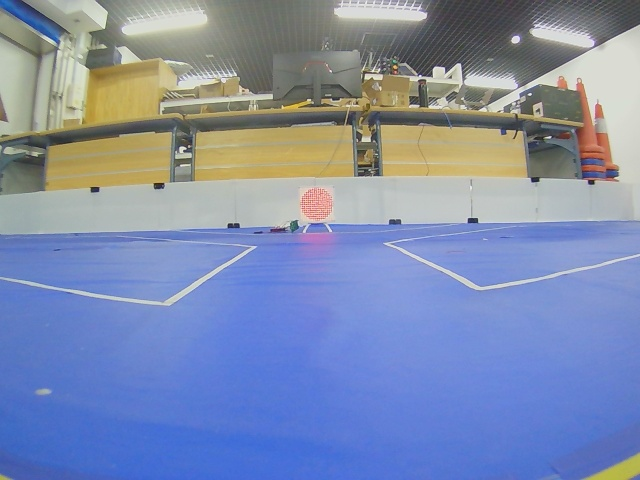red: (300, 187, 333, 222)
